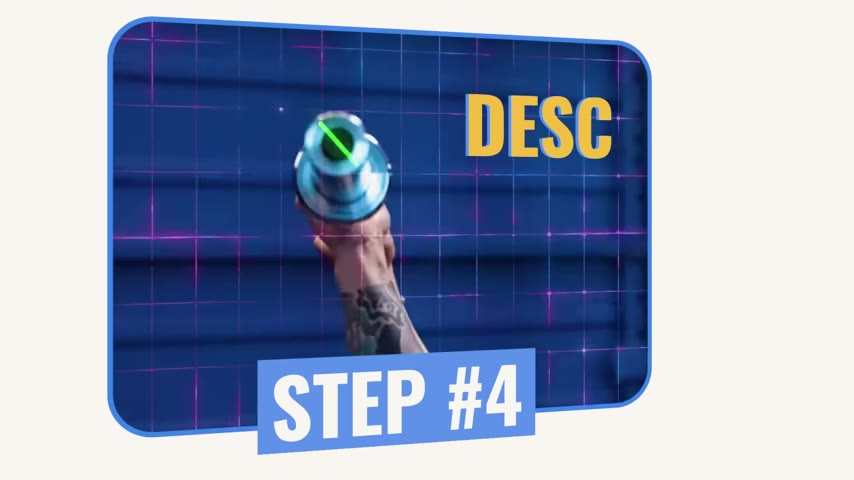barbell_plate_side: (288, 112, 325, 236)
